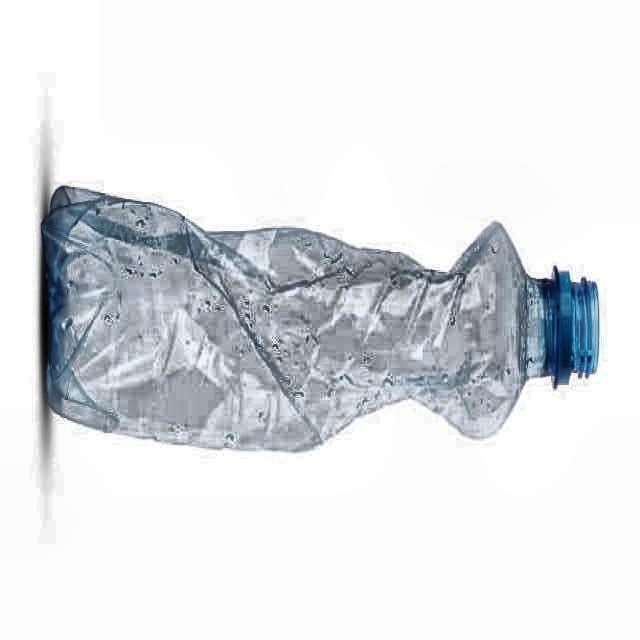plastic: (41, 188, 599, 451)
